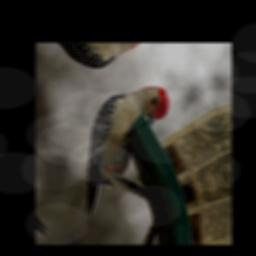Woodpecker: (54, 74, 191, 224)
